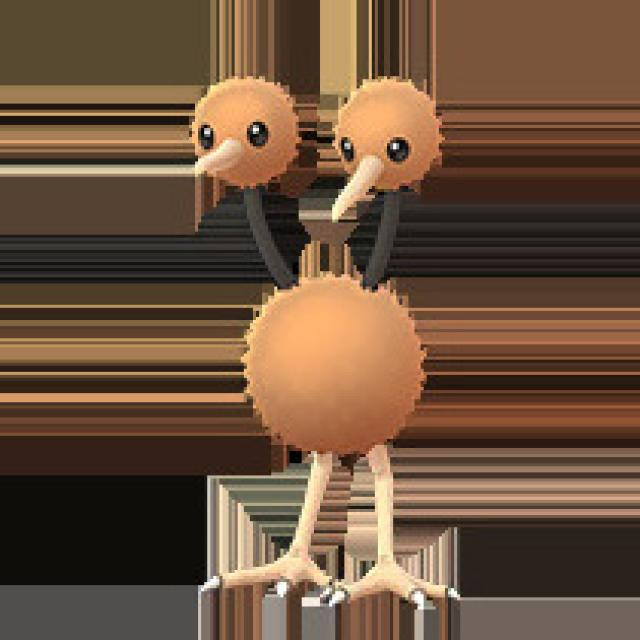Doduo: (185, 66, 470, 612)
